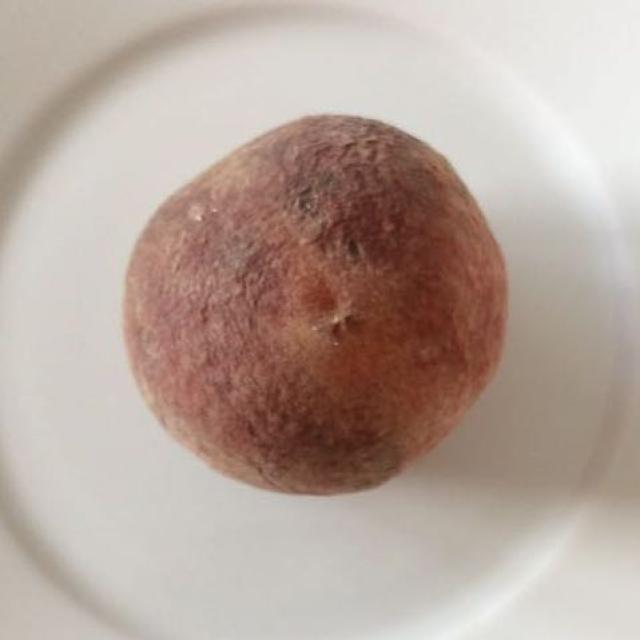peach: (126, 117, 504, 488)
